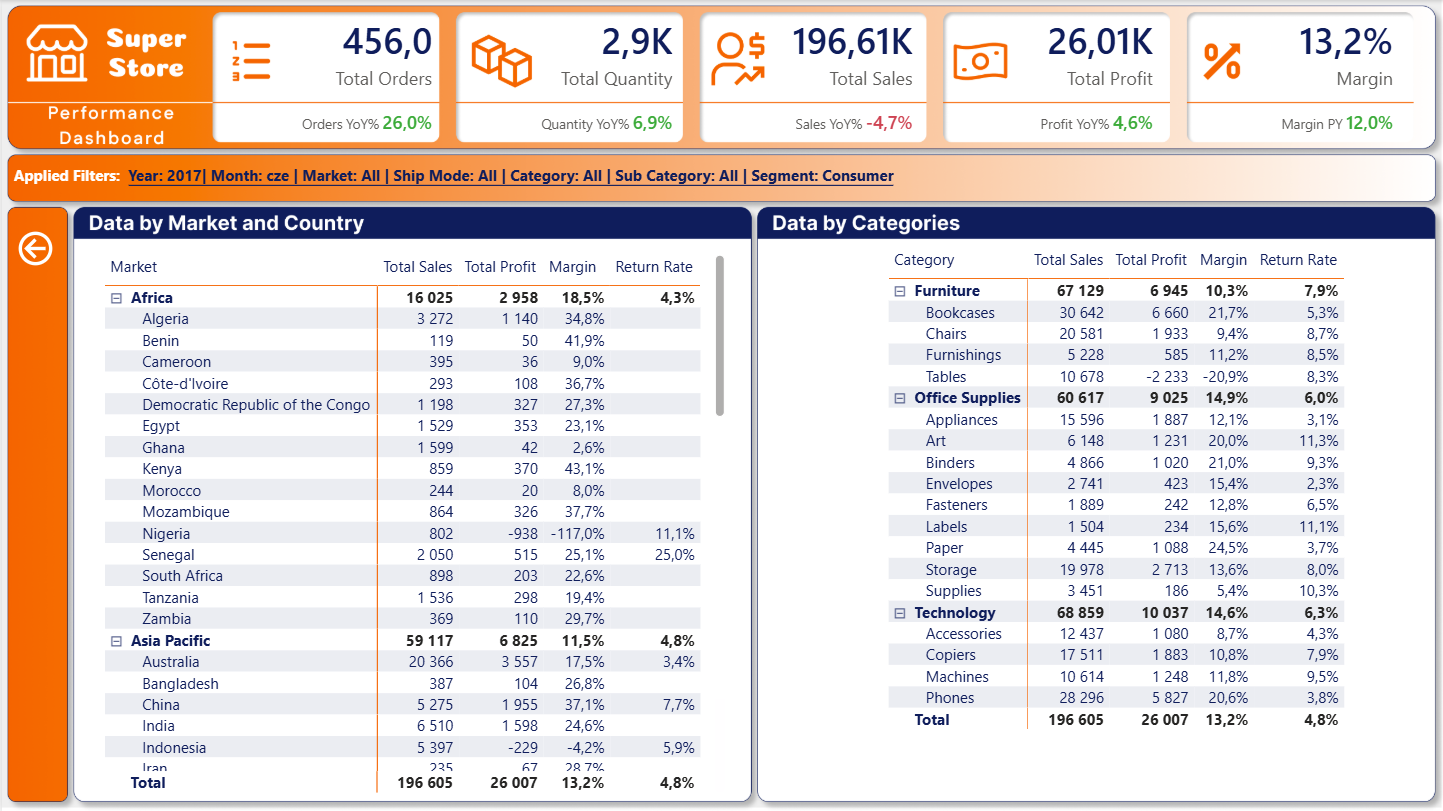

This screenshot's page, from the dashboard's own definition file:
{"tool":"powerbi","page":{"name":"Drill Through","canvas":[1280,720],"ordinal":1},"visuals":[{"type":"pivotTable","fields":{"Values":["01_Measures.Total Sales","01_Measures.Total Profit","01_Measures.Margin","01_Measures.Return Rate"],"Rows":["Dim_Product.Category","Dim_Product.SubCategory"]},"box":[781.2,214.6,429.2,474.4],"z":0},{"type":"actionButton","box":[9.8,200.4,43.4,39.9],"z":1000},{"type":"pivotTable","fields":{"Values":["01_Measures.Total Sales","01_Measures.Total Profit","01_Measures.Margin","01_Measures.Return Rate"],"Rows":["Fact_Sales.Market","Fact_Sales.Country"]},"box":[86,220.8,560.4,486.8],"z":2000},{"type":"cardVisual","fields":{"Data":["01_Measures.Total Orders","01_Measures.Total Quantity","01_Measures.Total Sales","01_Measures.Total Profit","01_Measures.Margin"]},"box":[168.6,0,1094.3,135.2],"z":3000},{"type":"textbox","box":[5,141.7,1264.4,31.1],"z":4000}]}

Visuals, with their boxes in screenshot pixels (x1, y1, x2, y2), scaled from the page's 1280x720 canvas onto the 1443x811 screenshot:
pivotTable - 01_Measures.Total Sales x 01_Measures.Total Profit: (x1=881, y1=242, x2=1365, y2=776)
actionButton: (x1=11, y1=226, x2=60, y2=271)
pivotTable - 01_Measures.Total Sales x 01_Measures.Total Profit: (x1=97, y1=249, x2=729, y2=797)
cardVisual - 01_Measures.Total Orders x 01_Measures.Total Quantity: (x1=190, y1=0, x2=1424, y2=152)
textbox: (x1=6, y1=160, x2=1431, y2=195)
